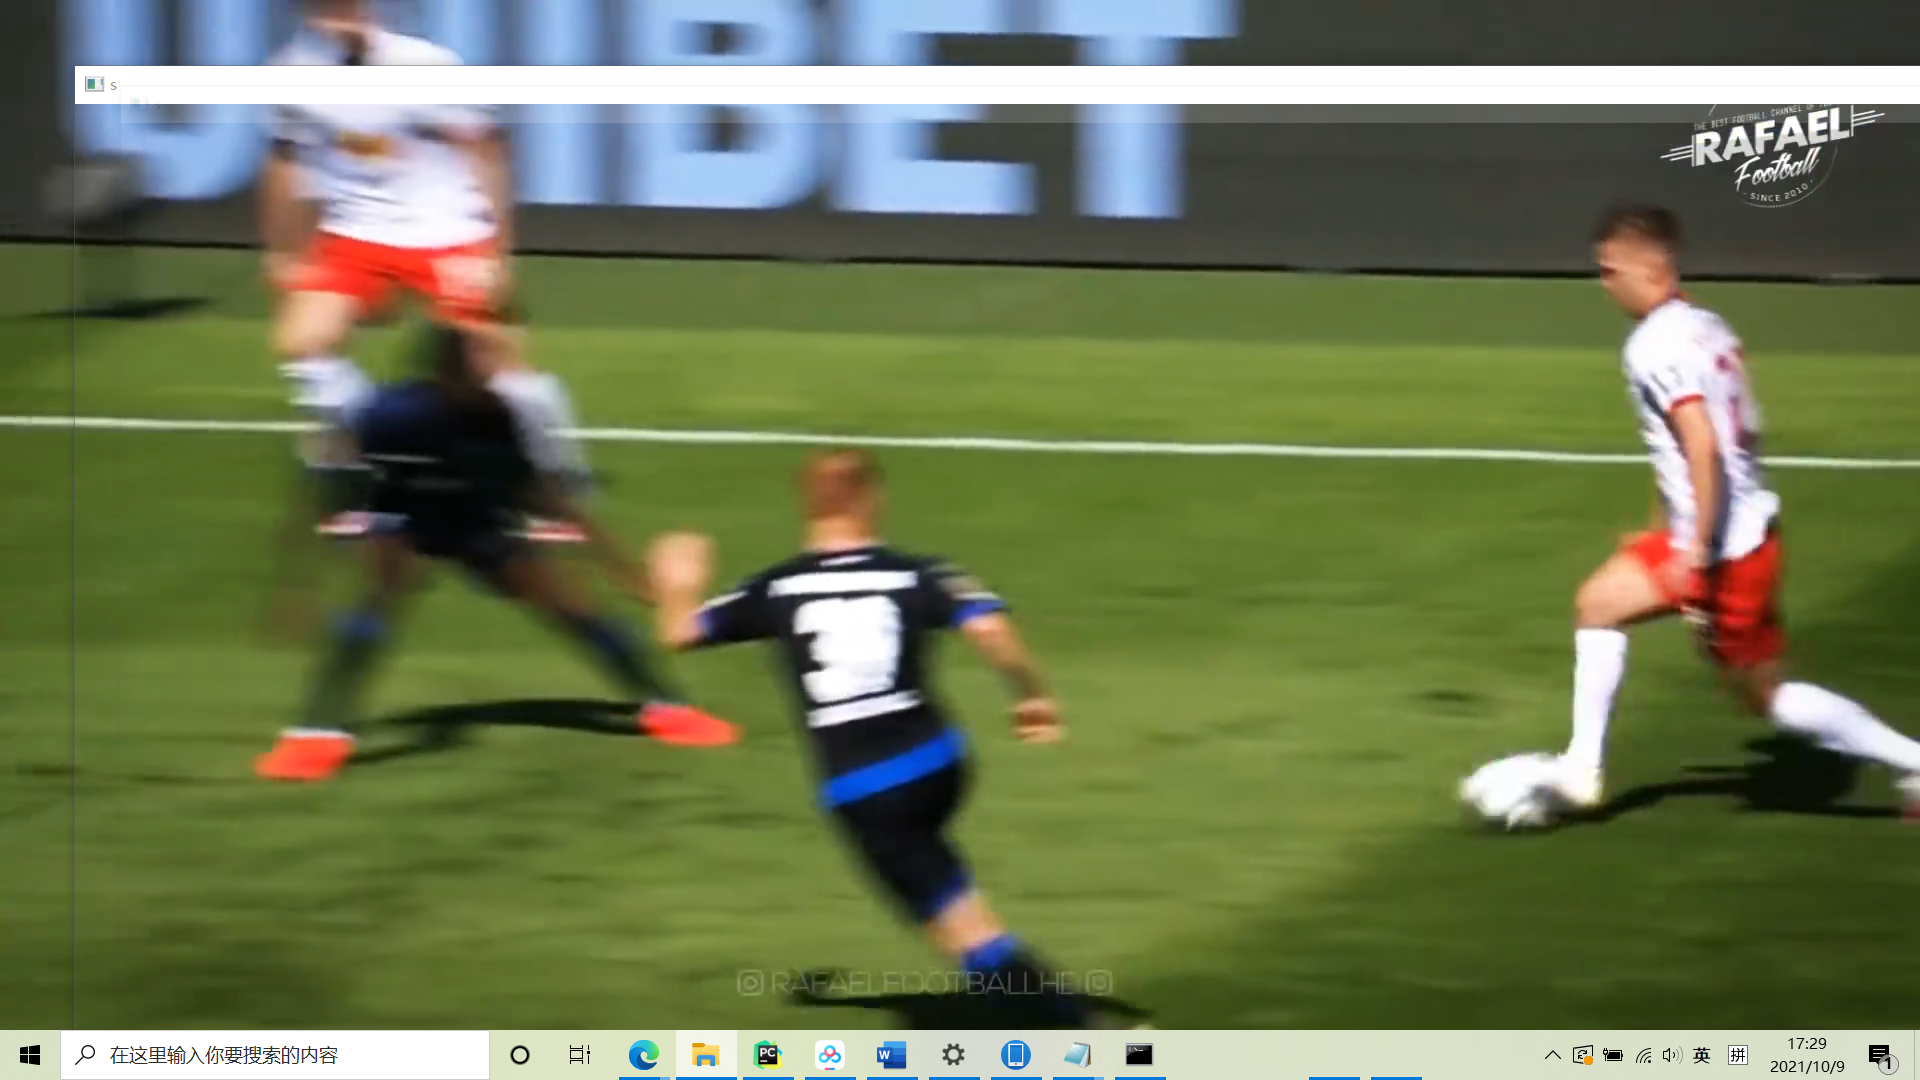ft: (1455, 741, 1573, 855)
